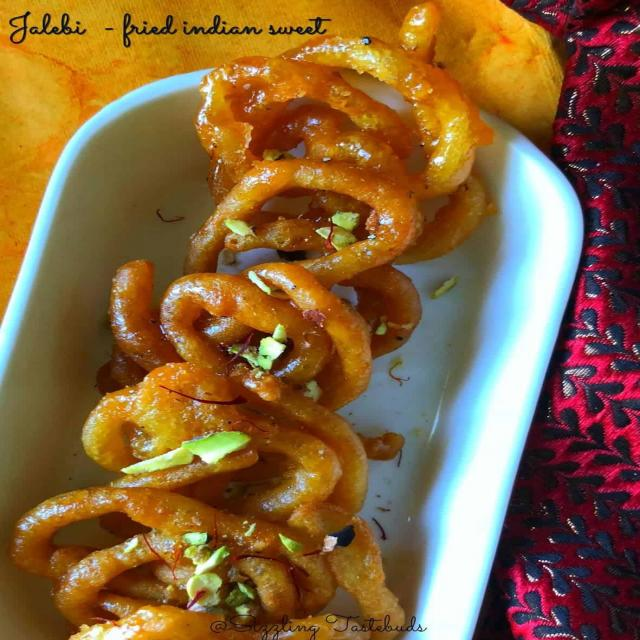jalebi: (38, 45, 455, 640)
